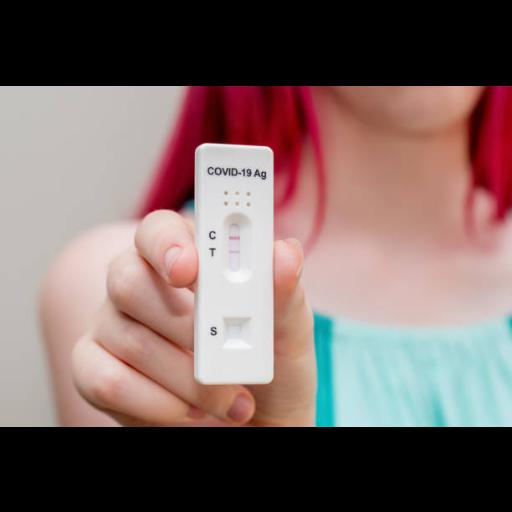Pos: (196, 144, 272, 382)
